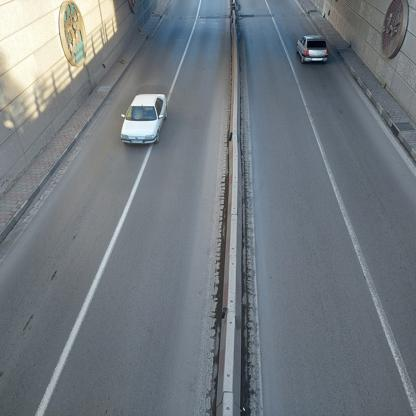Car: (115, 92, 167, 150), (288, 30, 328, 68)
